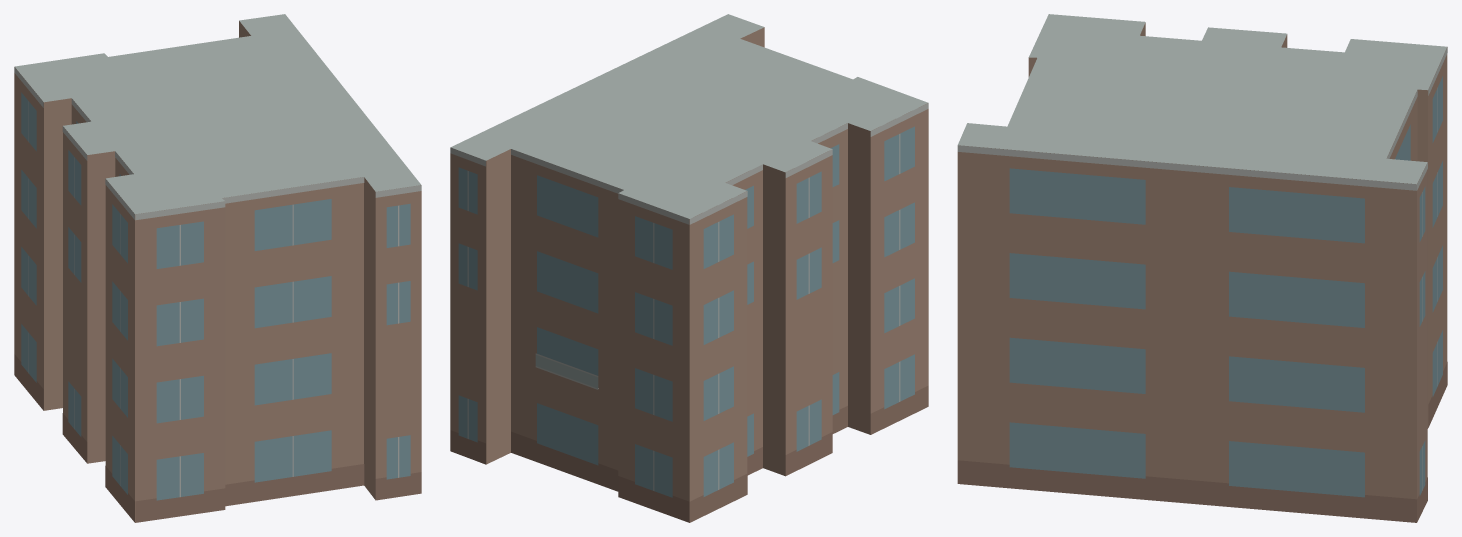
Rendered from survey-upis-32701761.glb.
The picture shows the model from 3 angles, left to right: view 1: azimuth 30°, elevation 25°; view 2: azimuth 150°, elevation 25°; view 3: azimuth 270°, elevation 25°; orthographic projection. The views are drawn at different scales.
Parts seen in each view (by area): view 1: survey-upis-32701761.tmp; view 2: survey-upis-32701761.tmp; view 3: survey-upis-32701761.tmp.
Boxes of the visible parts, x1,y1,x2,y2 form: survey-upis-32701761.tmp: [14, 14, 421, 522]; survey-upis-32701761.tmp: [450, 14, 928, 522]; survey-upis-32701761.tmp: [957, 14, 1447, 522].
Size of the model in its own units: 13.48 by 12.5 by 16.39.
